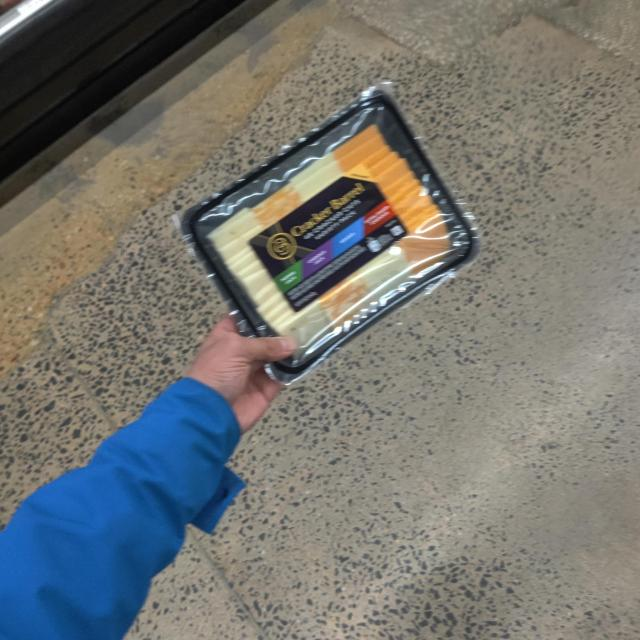Cheese: (168, 77, 501, 400)
